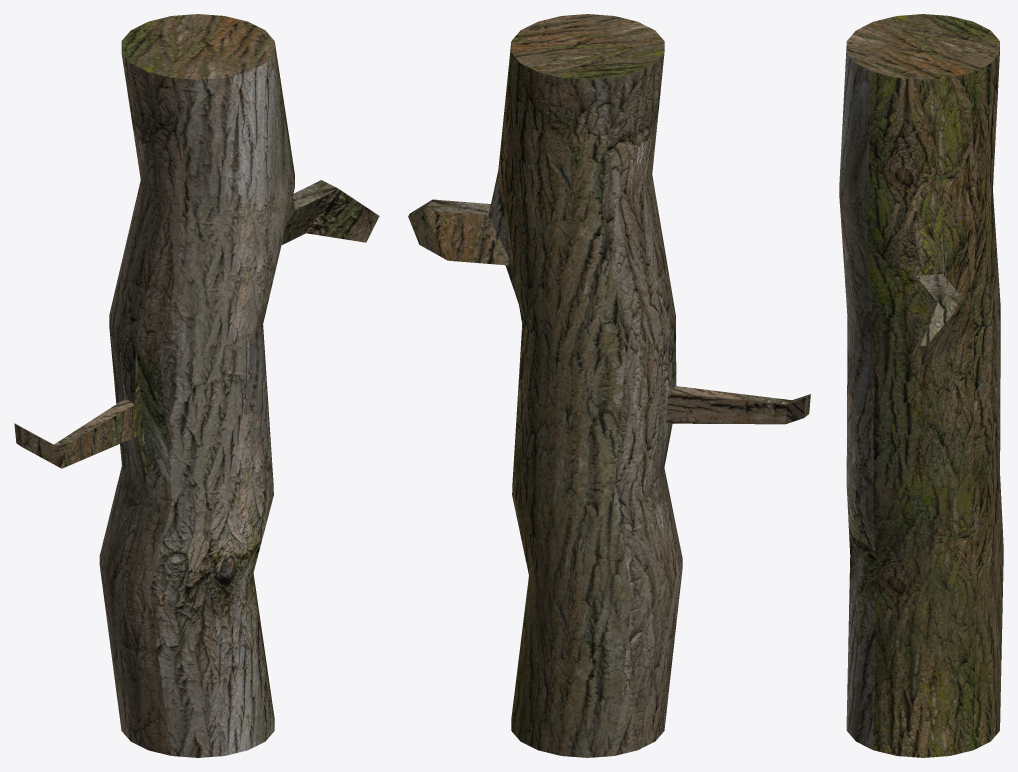
Rendered from Obstacle log.fbx.
The picture shows the model from 3 angles, left to right: view 1: azimuth 30°, elevation 25°; view 2: azimuth 150°, elevation 25°; view 3: azimuth 270°, elevation 25°; orthographic projection.
Parts seen in each view (by area): view 1: Cylinder001; view 2: Cylinder001; view 3: Cylinder001.
Part boxes in pixels (x1=…): Cylinder001: x1=14, y1=14, x2=379, y2=757; Cylinder001: x1=408, y1=14, x2=810, y2=757; Cylinder001: x1=839, y1=14, x2=1003, y2=757.
Size of the model in its own units: 43.9 by 74.75 by 16.41.
1 material, 1 textured.
